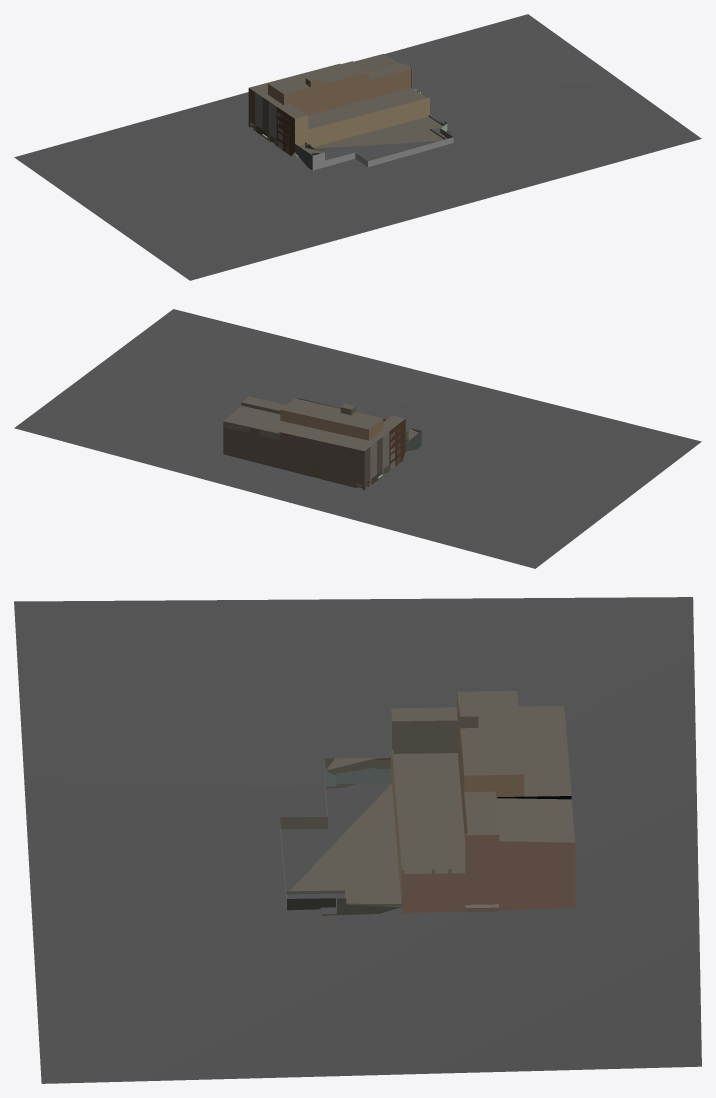
The model's file is the-lovemans-building-and-garage.glb.
The picture shows the model from 3 angles, top to bottom: view 1: azimuth 30°, elevation 25°; view 2: azimuth 150°, elevation 25°; view 3: azimuth 270°, elevation 25°; orthographic projection. The views are drawn at different scales.
Parts seen in each view (by area): view 1: LOD0; view 2: LOD0; view 3: LOD0.
Boxes of the visible parts, box(x1,y1,x2,y2) form: LOD0: box(14, 14, 701, 280); LOD0: box(14, 309, 701, 568); LOD0: box(14, 597, 701, 1083).
Size of what is drawn, in the model's own units: 279 by 30.97 by 160.
Materials: 2 (2 with a texture image).
